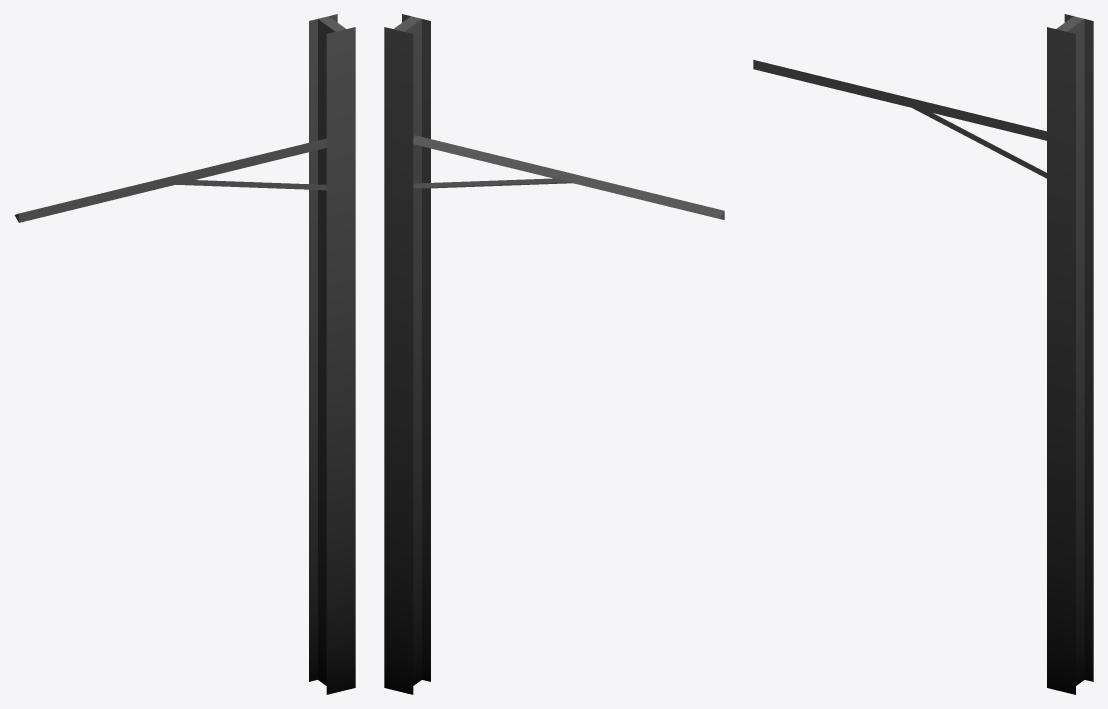
Rendered from KASENCHU_KQ_1RAIL.glb.
3 renders of one model, left to right at view 1: azimuth 30°, elevation 25°; view 2: azimuth 150°, elevation 25°; view 3: azimuth 330°, elevation 25°, orthographic.
Visible parts, largest first — view 1: Mesh1; view 2: Mesh1; view 3: Mesh1.
Part boxes in pixels (x1,y1,x2,y2): Mesh1: [14, 14, 355, 694]; Mesh1: [384, 14, 724, 694]; Mesh1: [753, 14, 1093, 694].
Bounding box in the file's own units: 12.64 × 24.23 × 1.18.
1 material, 1 textured.
